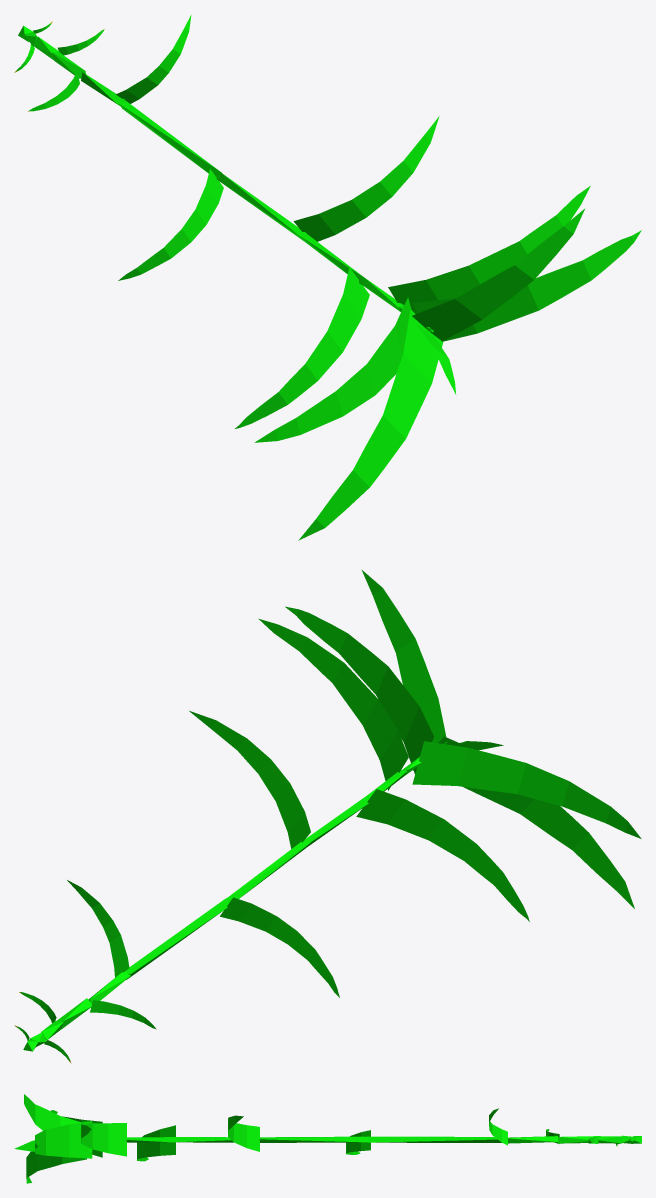
Rendered from usm_18_Beer_2018-09-22_3.obj.
3 renders of one model, top to bottom at view 1: azimuth 30°, elevation 25°; view 2: azimuth 150°, elevation 25°; view 3: azimuth 270°, elevation 25°, orthographic. The views are drawn at different scales.
Parts seen in each view (by area): view 1: vid_26, vid_28, vid_22, vid_24, vid_20, vid_18, vid_16, vid_14, vid_12, vid_13, vid_15; view 2: vid_22, vid_24, vid_20, vid_18, vid_26, vid_28, vid_16, vid_14, vid_12, vid_13, vid_15; view 3: vid_24, vid_20, vid_18, vid_13, vid_16, vid_28, vid_26, vid_15, vid_14, vid_17, vid_11, vid_12 (+4 smaller).
Part boxes in pixels (bbox=[...]): vid_26: bbox=[298, 309, 443, 540]; vid_28: bbox=[412, 209, 584, 341]; vid_22: bbox=[255, 297, 411, 442]; vid_24: bbox=[413, 230, 641, 341]; vid_20: bbox=[388, 186, 590, 313]; vid_18: bbox=[235, 267, 369, 428]; vid_16: bbox=[293, 116, 439, 241]; vid_14: bbox=[118, 169, 223, 280]; vid_12: bbox=[116, 15, 191, 103]; vid_13: bbox=[118, 101, 221, 180]; vid_15: bbox=[218, 173, 306, 240]; vid_22: bbox=[412, 741, 641, 838]; vid_24: bbox=[285, 606, 434, 773]; vid_20: bbox=[258, 618, 408, 790]; vid_18: bbox=[356, 789, 529, 921]; vid_26: bbox=[413, 736, 634, 908]; vid_28: bbox=[361, 569, 447, 744]; vid_16: bbox=[189, 711, 310, 848]; vid_14: bbox=[220, 897, 339, 997]; vid_12: bbox=[67, 880, 129, 977]; vid_13: bbox=[125, 898, 228, 979]; vid_15: bbox=[226, 840, 310, 903]; vid_24: bbox=[35, 1121, 92, 1158]; vid_20: bbox=[81, 1123, 126, 1156]; vid_18: bbox=[137, 1125, 175, 1161]; vid_13: bbox=[368, 1136, 501, 1142]; vid_16: bbox=[228, 1115, 259, 1151]; vid_28: bbox=[24, 1094, 81, 1130]; vid_26: bbox=[26, 1120, 86, 1183]; vid_15: bbox=[259, 1136, 367, 1142]; vid_14: bbox=[346, 1130, 370, 1154]; vid_17: bbox=[171, 1137, 233, 1142]; vid_11: bbox=[507, 1136, 557, 1143]; vid_12: bbox=[489, 1108, 507, 1145].
Bounding box in the file's own units: 131 × 90.07 × 277.
